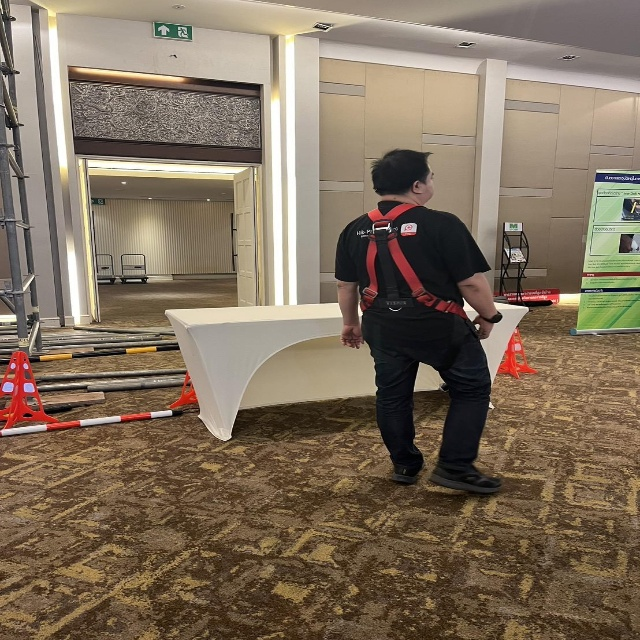Arnes_seguridad: (349, 198, 480, 353)
